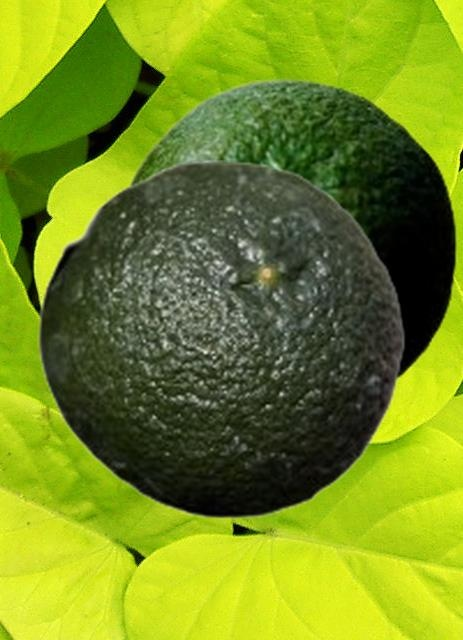calamansi: (37, 160, 405, 518), (122, 77, 456, 383)
